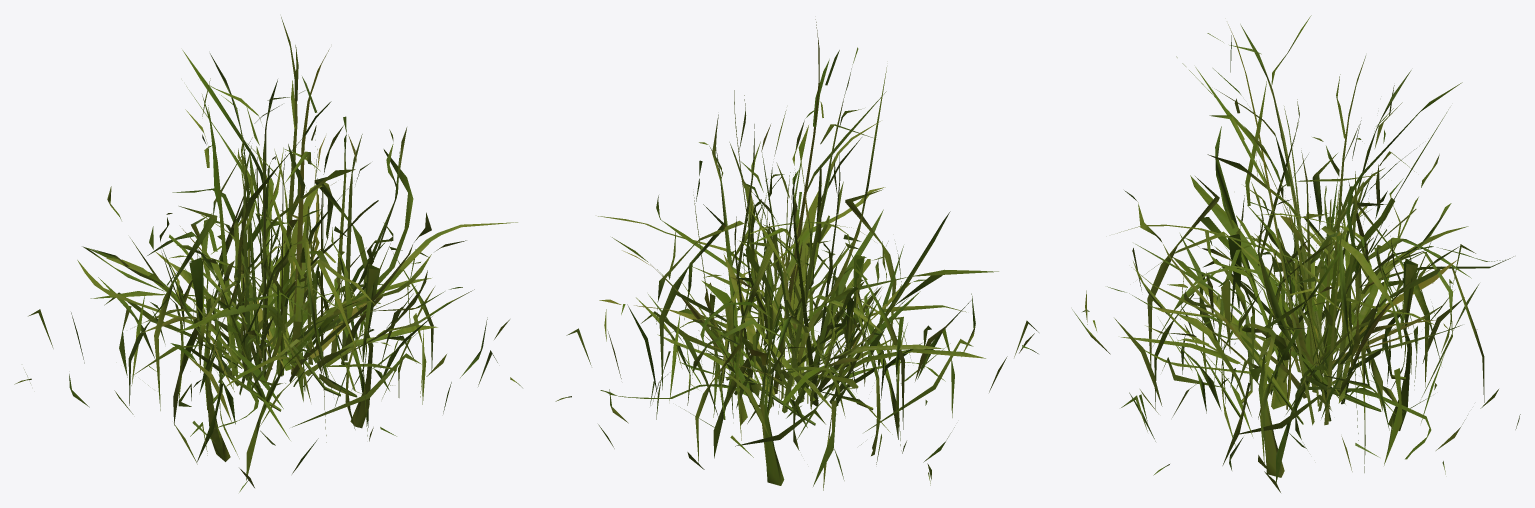
Rendered from grass14.glb.
3 renders of one model, left to right at view 1: azimuth 30°, elevation 25°; view 2: azimuth 150°, elevation 25°; view 3: azimuth 270°, elevation 25°, orthographic. The views are drawn at different scales.
Visible parts, largest first — view 1: Grass Dry 01.003; view 2: Grass Dry 01.003; view 3: Grass Dry 01.003.
Boxes of the visible parts, x1,y1,x2,y2 form: Grass Dry 01.003: (14, 17, 522, 492); Grass Dry 01.003: (555, 19, 1038, 490); Grass Dry 01.003: (1072, 15, 1520, 492).
Bounding box in the file's own units: 0.7814 × 0.7308 × 0.681.
Materials: 1 (1 with a texture image).
